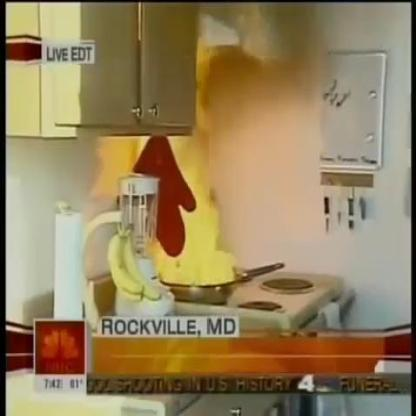fire: (132, 37, 258, 285)
